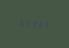eight: (30, 19, 35, 28), (36, 20, 41, 28)
nine: (24, 19, 29, 27)
six: (18, 18, 23, 27), (42, 20, 47, 28)
